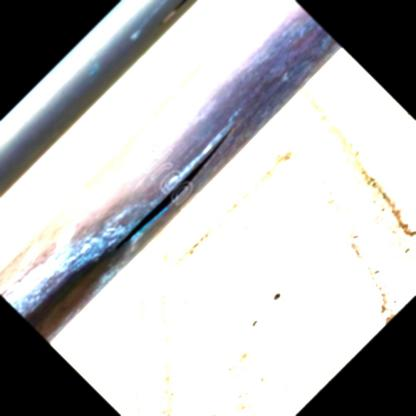burst: (134, 134, 237, 237)
